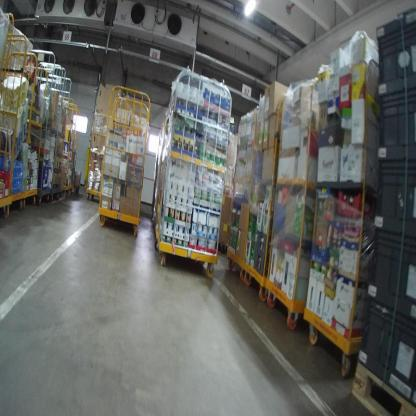pallet: (351, 361, 416, 416)
